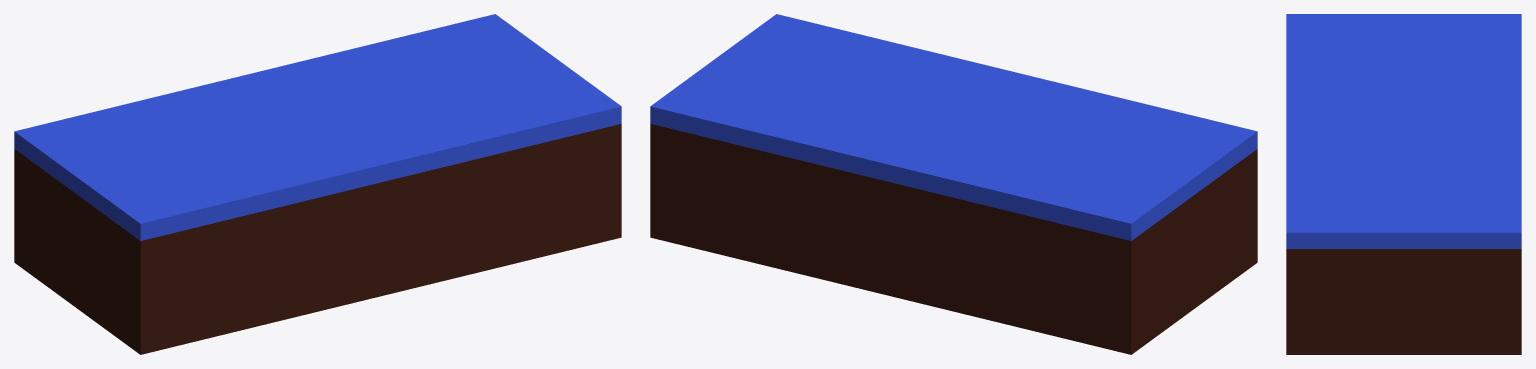
Rendered from Desk01.fbx.
The picture shows the model from 3 angles, left to right: view 1: azimuth 30°, elevation 25°; view 2: azimuth 150°, elevation 25°; view 3: azimuth 270°, elevation 25°; orthographic projection. The views are drawn at different scales.
Parts seen in each view (by area): view 1: 立方体; view 2: 立方体; view 3: 立方体.
Boxes of the visible parts, x1,y1,x2,y2 form: 立方体: [14, 14, 621, 354]; 立方体: [650, 14, 1257, 354]; 立方体: [1286, 14, 1521, 354].
Size of the model in its own units: 10127 by 2638 by 4604.
